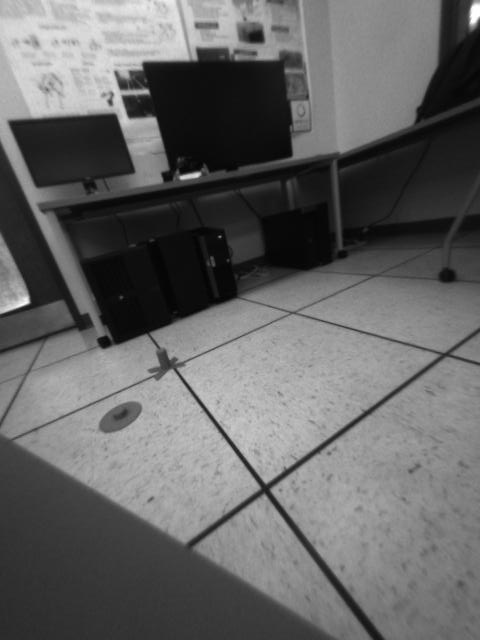X: (148, 348, 186, 381)
